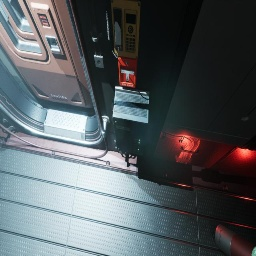EmergencyPhone ,: (105, 0, 141, 58)
FireAlarm ,: (118, 56, 138, 88)
NitrogenTank ,: (215, 224, 256, 256)
